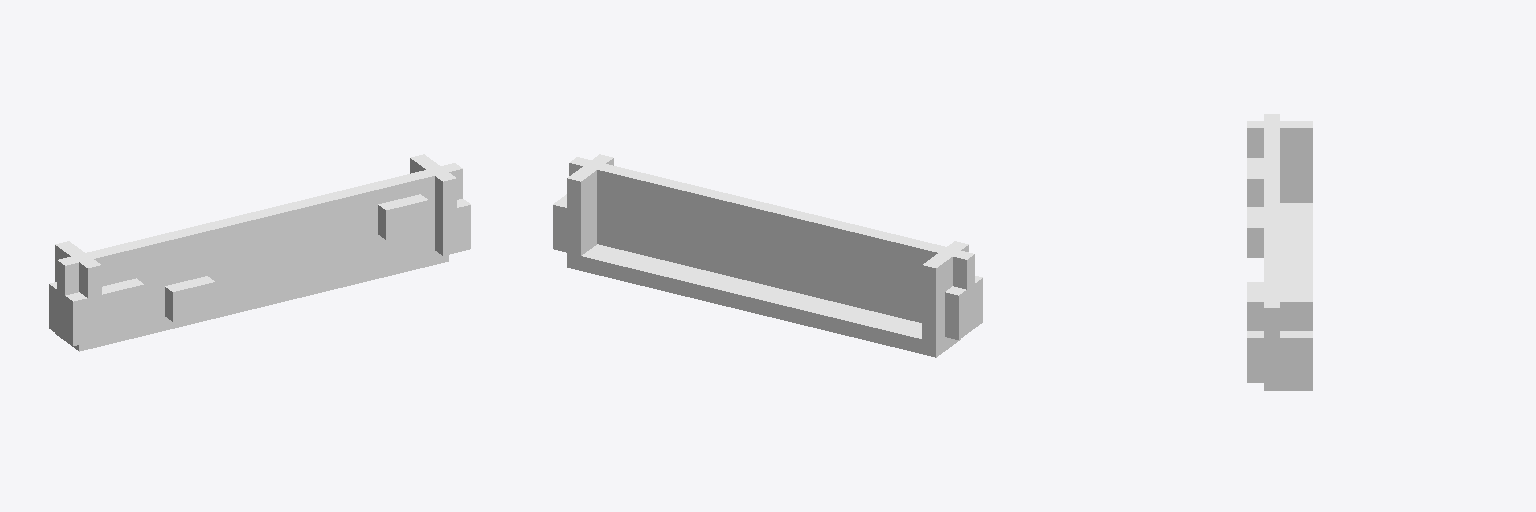
Rendered from SmallBuilding01-8.obj.
3 renders of one model, left to right at view 1: azimuth 30°, elevation 25°; view 2: azimuth 150°, elevation 25°; view 3: azimuth 270°, elevation 25°, orthographic.
Parts seen in each view (by area): view 1: object 1; view 2: object 1; view 3: object 1.
Boxes of the visible parts, x1=… form: object 1: x1=49, y1=154, x2=470, y2=351; object 1: x1=553, y1=154, x2=982, y2=357; object 1: x1=1247, y1=114, x2=1312, y2=390.
Bounding box in the file's own units: 2.8 × 0.6 × 0.4.